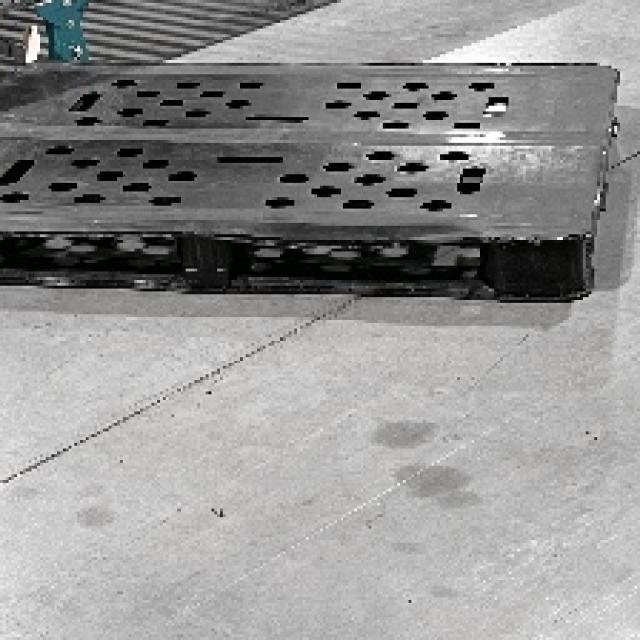igps: (0, 53, 624, 310)
